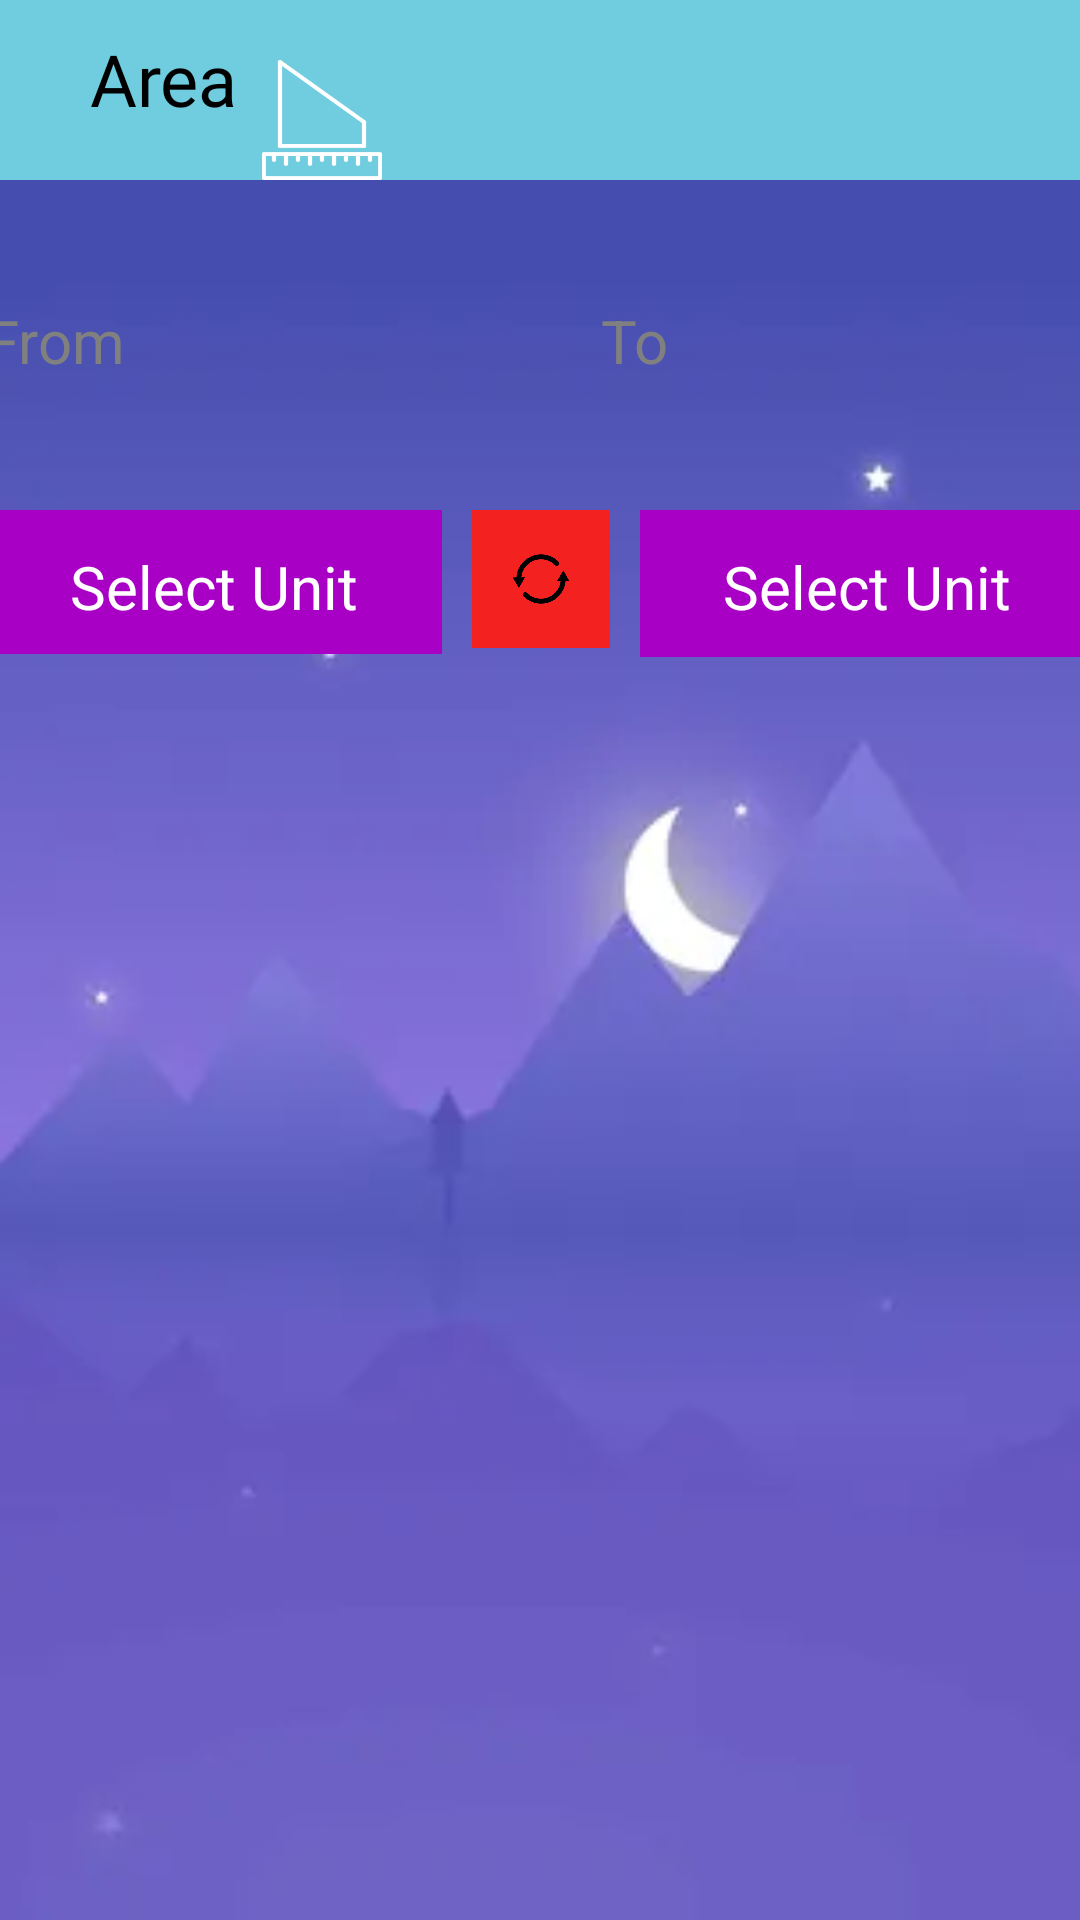

Icon click points for this 1080 x 1920 phone screenshot, format [x,y]:
convert: [541,579]
